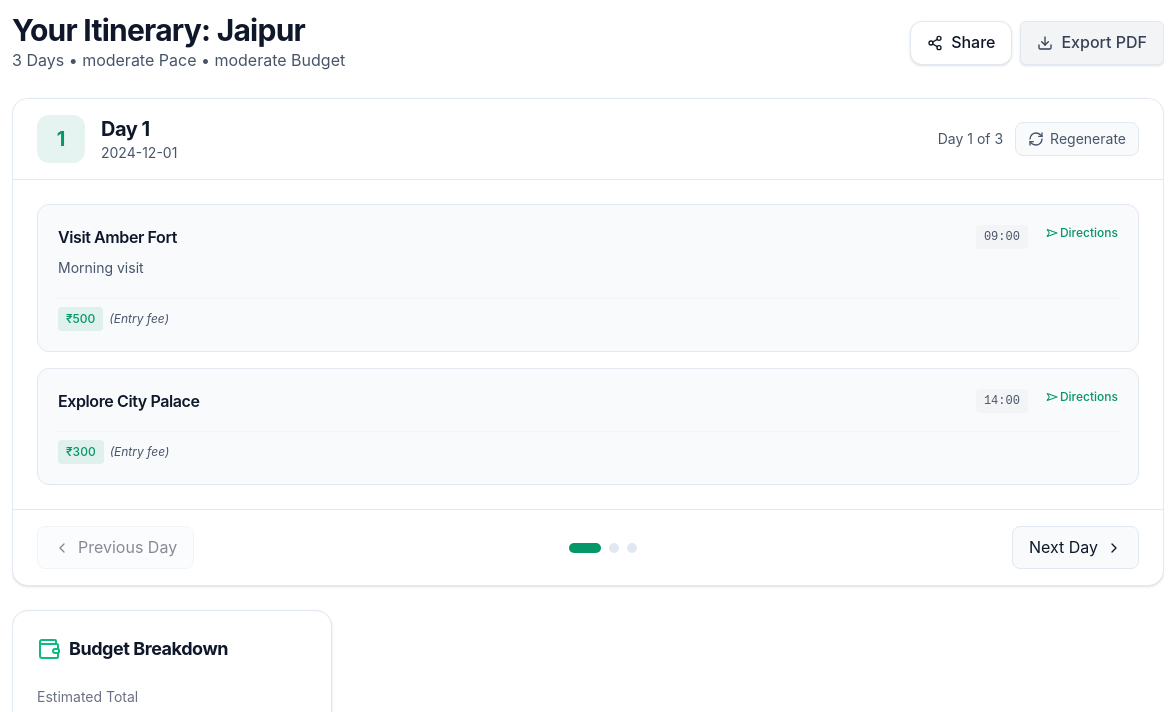
Test: ItineraryView › navigates to previous day when clicking Previous Day button
Go to day 2 first
What coordinates should you click on to do the following:
click the button "Next Day"
I would click on:
 (1075, 548)
Its box is x1=1012 y1=526 x2=1139 y2=569.
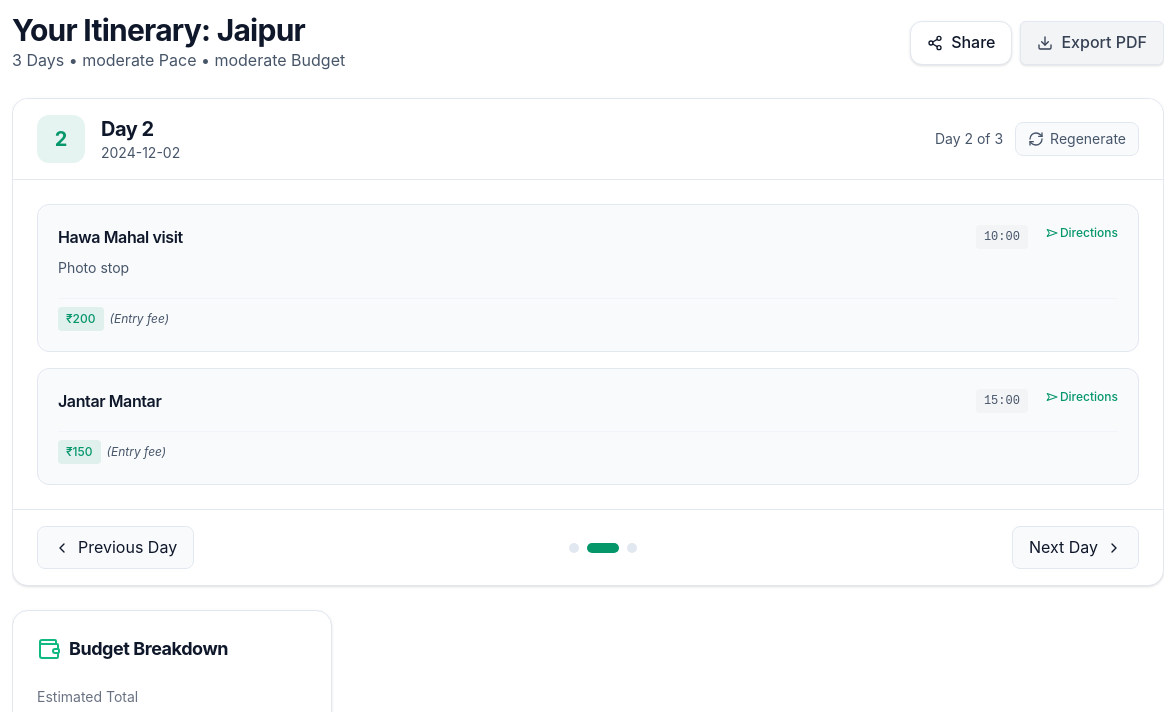
Expected: the heading "Day 2" is shown, x1=101 y1=117 x2=154 y2=141
Then go back
What coordinates should you click on to do the following:
click the button "Previous Day"
I would click on:
 (116, 548)
Its box is x1=37 y1=526 x2=194 y2=569.
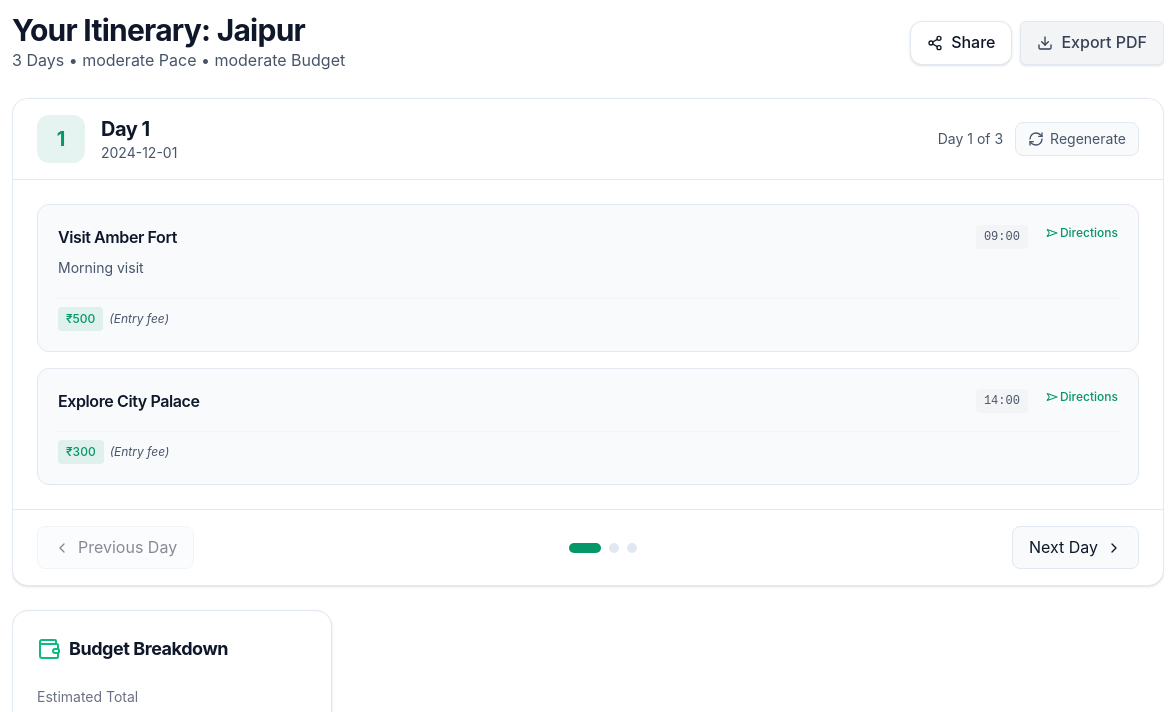
Expected: the heading "Day 1" is shown, x1=101 y1=117 x2=150 y2=141
Expected: the heading "Visit Amber Fort" is shown, x1=58 y1=227 x2=177 y2=247
